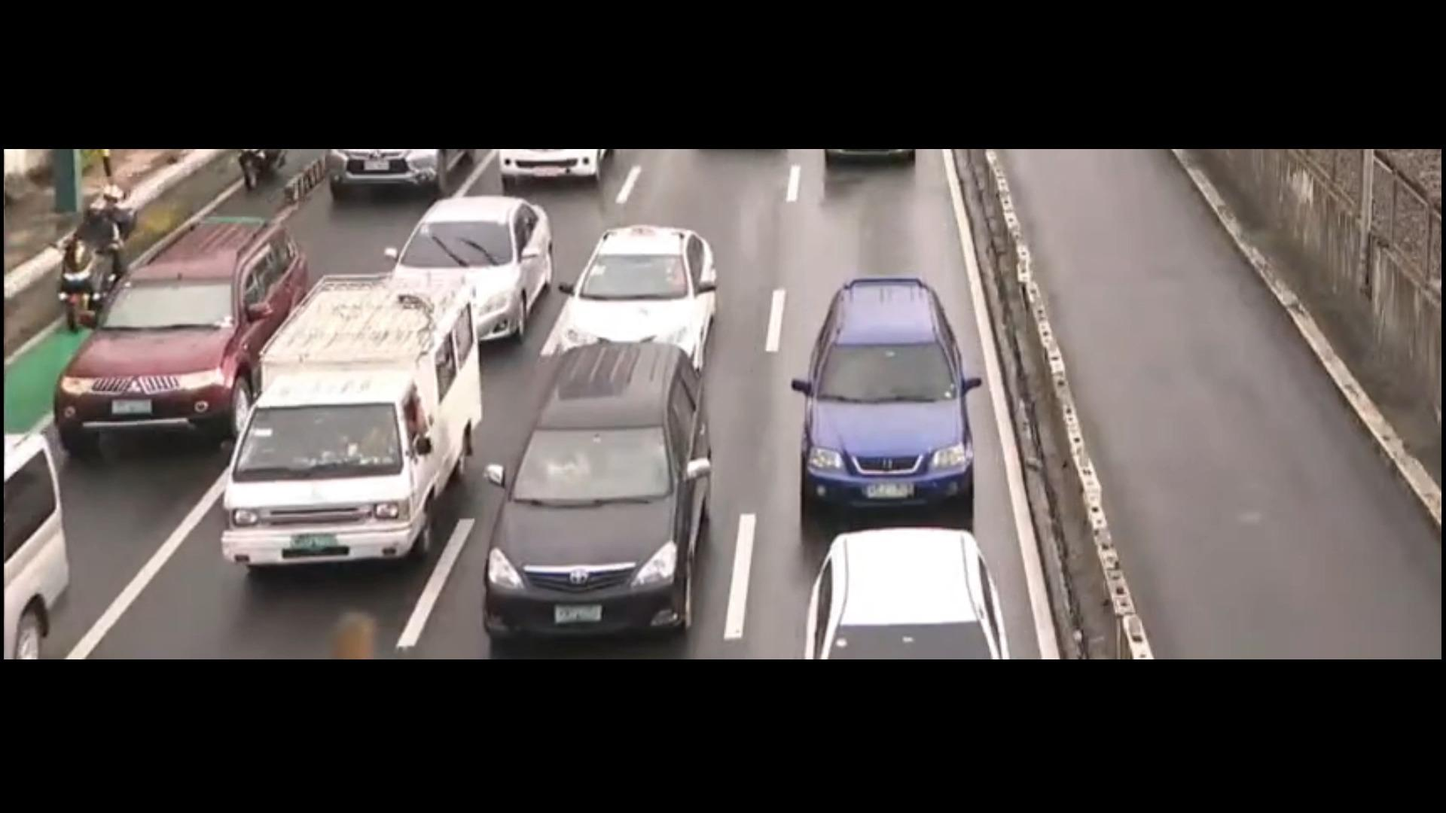Motorcycle: (53, 181, 136, 331)
Multicab: (222, 277, 484, 570)
SUV: (490, 343, 719, 636), (55, 216, 294, 438), (798, 282, 975, 510)
Sedan: (382, 192, 557, 339), (542, 235, 714, 356)
